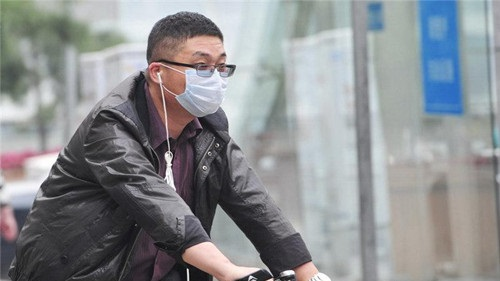face_mask: (172, 35, 233, 115)
